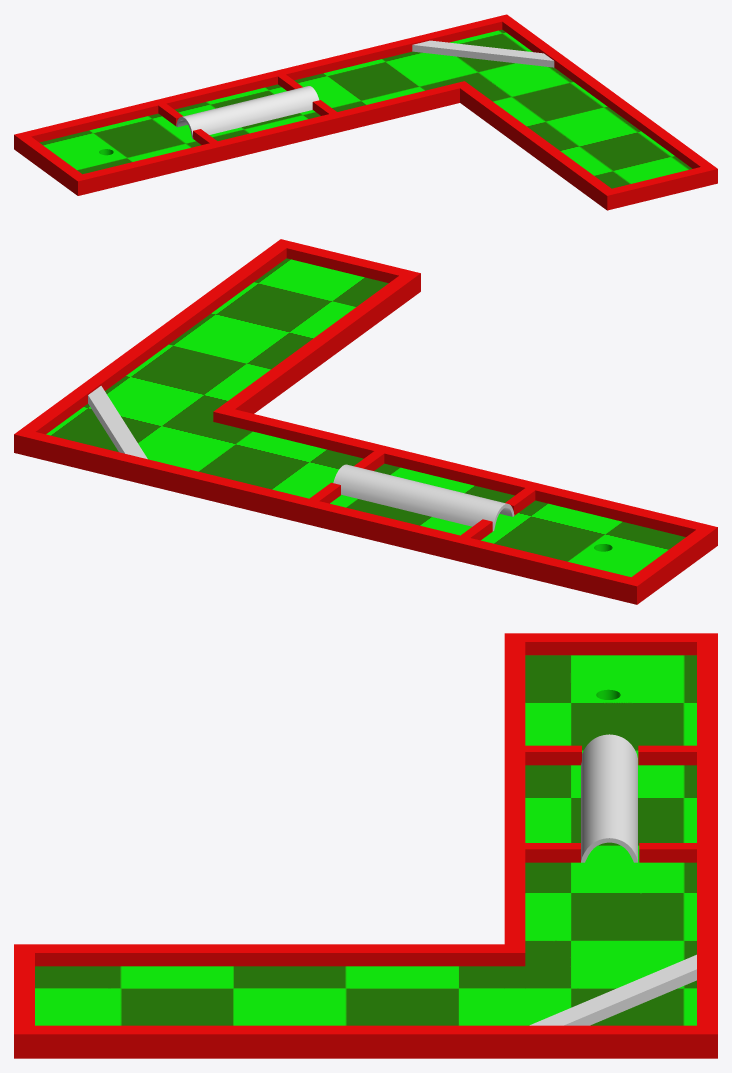
Rendered from Track3.fbx.
3 views of the same model, one above another, from view 1: azimuth 30°, elevation 25°; view 2: azimuth 150°, elevation 25°; view 3: azimuth 270°, elevation 25° (orthographic). The views are drawn at different scales.
Parts seen in each view (by area): view 1: Track3_Boundary, Track3_Track, Track3_Extras; view 2: Track3_Boundary, Track3_Track, Track3_Extras; view 3: Track3_Track, Track3_Boundary, Track3_Extras.
Boxes of the visible parts, <box> form: Track3_Boundary: <box>14,14,717,210</box>; Track3_Track: <box>39,29,692,188</box>; Track3_Extras: <box>176,40,554,138</box>; Track3_Boundary: <box>14,239,717,604</box>; Track3_Track: <box>46,258,685,576</box>; Track3_Extras: <box>88,386,514,531</box>; Track3_Track: <box>35,655,696,1025</box>; Track3_Boundary: <box>14,633,717,1058</box>; Track3_Extras: <box>529,734,696,1025</box>.
Bounding box in the file's own units: 387 × 16.02 × 287.
